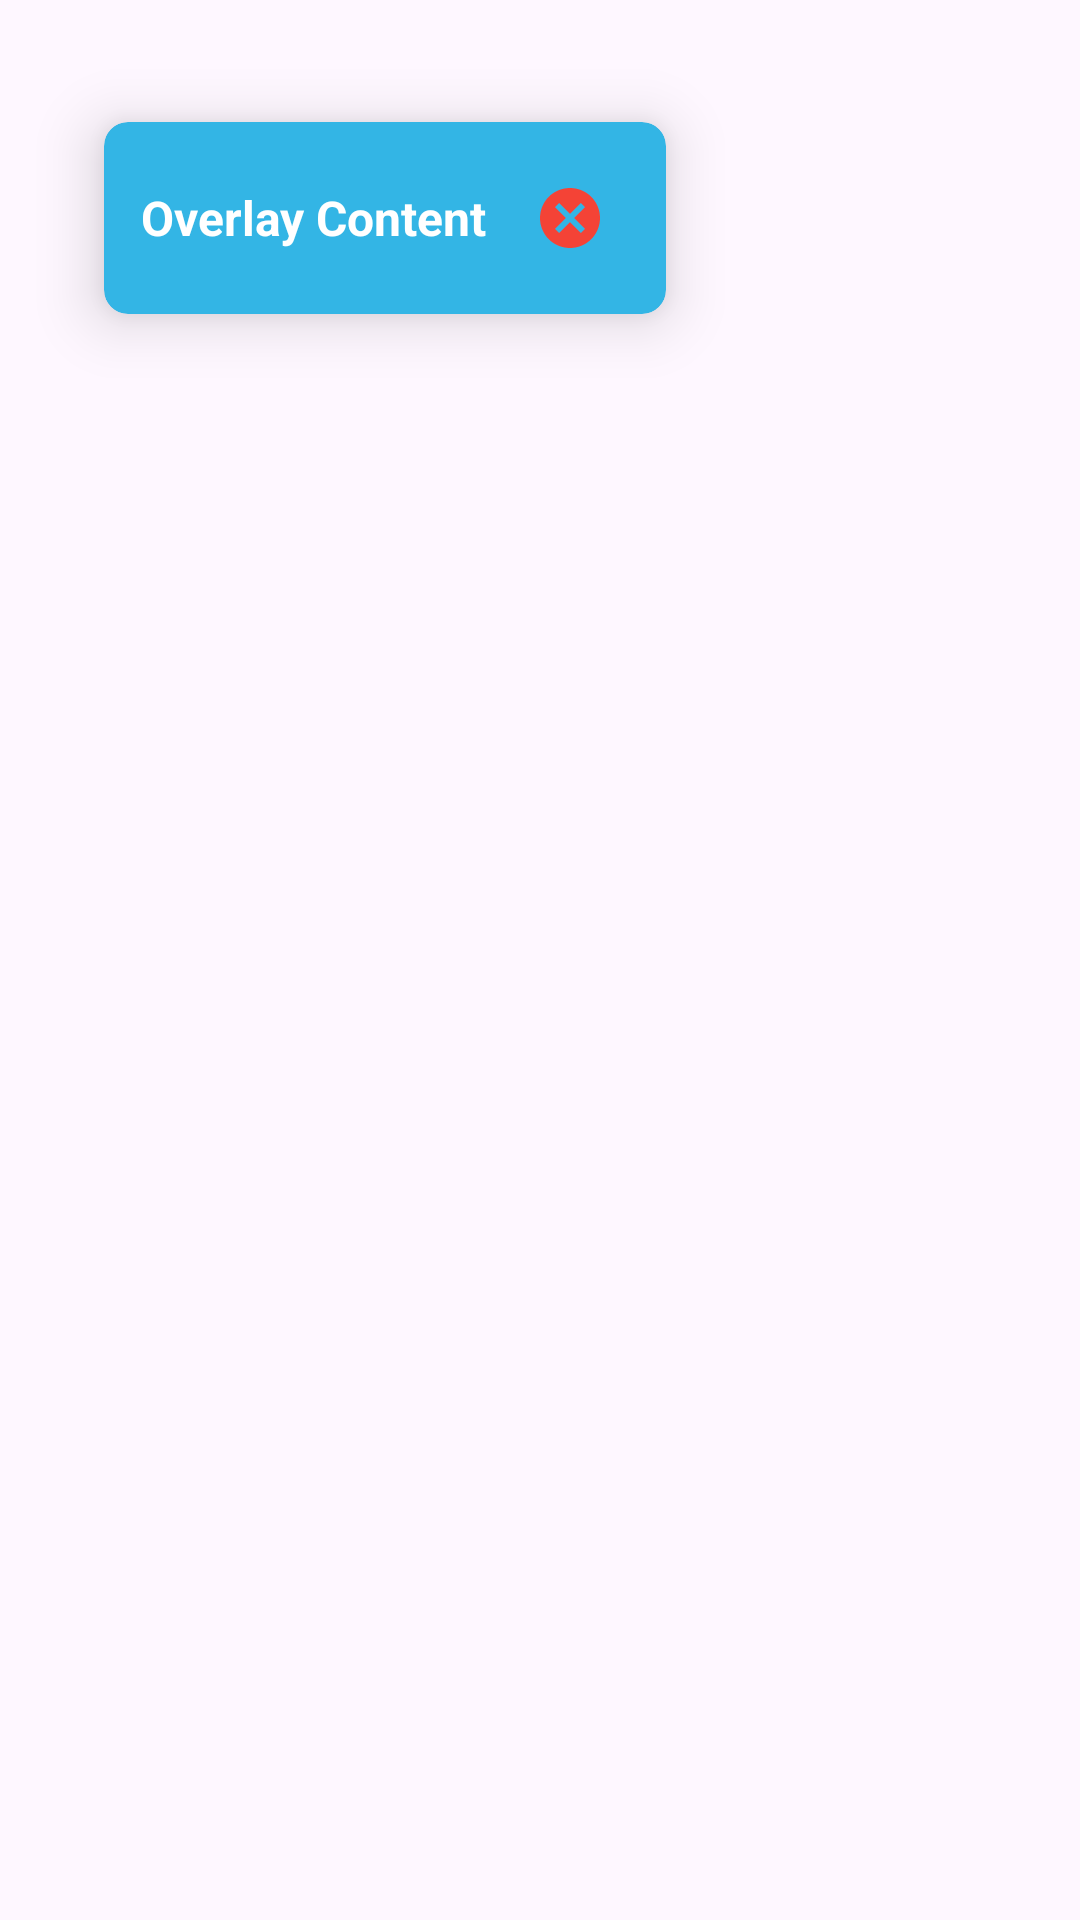

Named icons in this screenshot (1080×1920) and their centers, [x,y]:
Close: [570,218]
